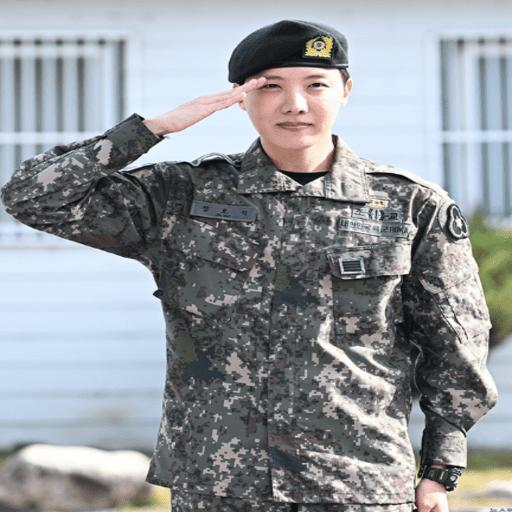korea army: (0, 19, 498, 511)
